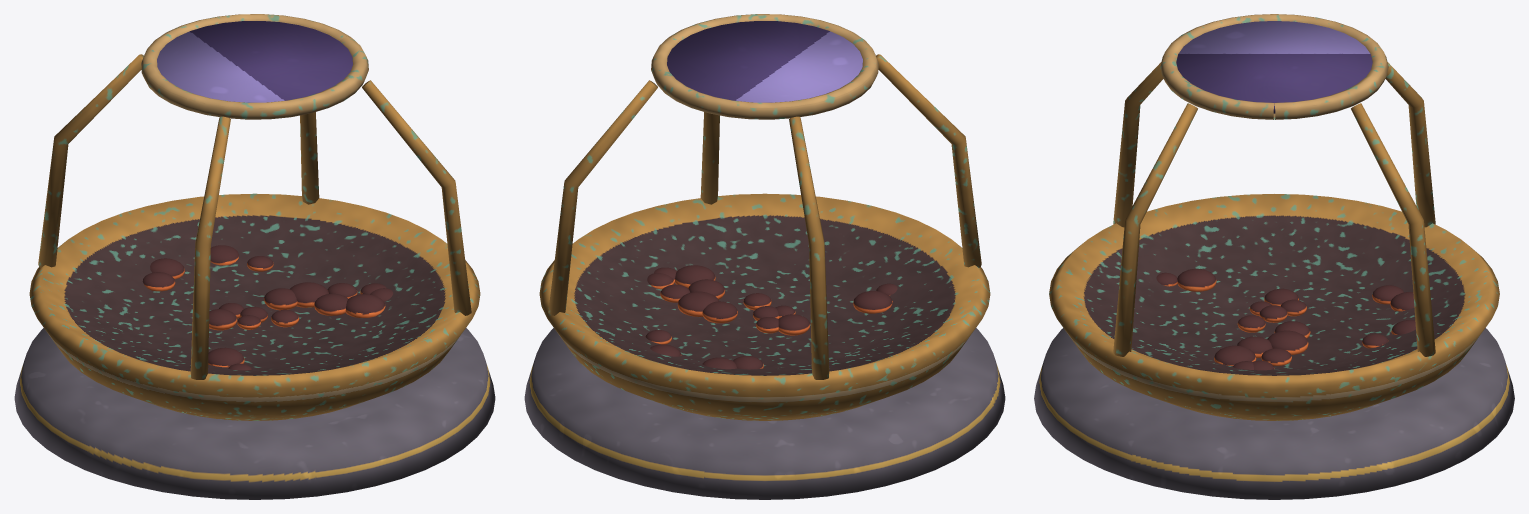
The model's file is great_fire.glb.
The picture shows the model from 3 angles, left to right: view 1: azimuth 30°, elevation 25°; view 2: azimuth 150°, elevation 25°; view 3: azimuth 270°, elevation 25°; orthographic projection.
Visible parts, largest first — view 1: GreatFire, Lens; view 2: GreatFire, Lens; view 3: GreatFire, Lens.
Part boxes in pixels (x1,y1,x2,y2): GreatFire: (14,14,495,499); Lens: (157,21,352,102); GreatFire: (524,14,1005,499); Lens: (667,21,862,102); GreatFire: (1034,14,1514,499); Lens: (1176,21,1372,113).
Size of the model in its own units: 4.8 by 3.74 by 4.8.
1 material, 1 textured.
